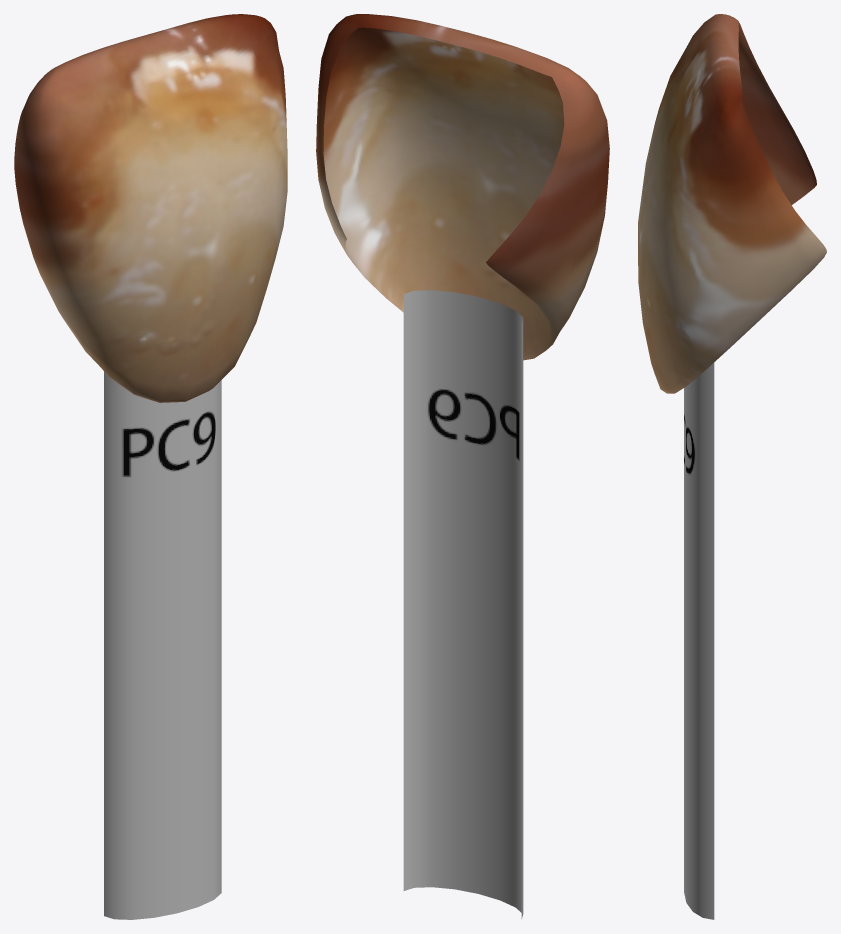
The picture shows the model from 3 angles, left to right: view 1: azimuth 30°, elevation 25°; view 2: azimuth 150°, elevation 25°; view 3: azimuth 270°, elevation 25°; orthographic projection. The views are drawn at different scales.
Parts seen in each view (by area): view 1: Tab; view 2: Tab; view 3: Tab.
Boxes of the visible parts, left/top/right/bottom form: Tab: left=14, top=14, right=287, bottom=919; Tab: left=316, top=14, right=609, bottom=919; Tab: left=638, top=14, right=826, bottom=919.
Size of the model in its own units: 0.00866 by 0.0274 by 0.00556.
1 material, 1 textured.
